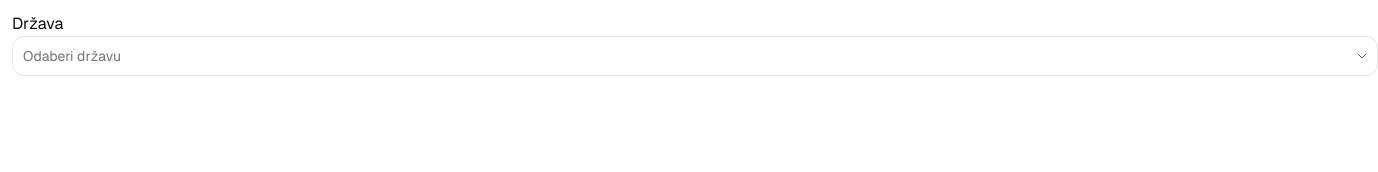
CountryCombobox › Enter picks the first match (autoHighlight)
Later steps or results of the test are not shown.
Type "sloven" into the dropdown labelled "Država".
click(681, 56); type("sloven")  # box [13, 36, 1350, 76]
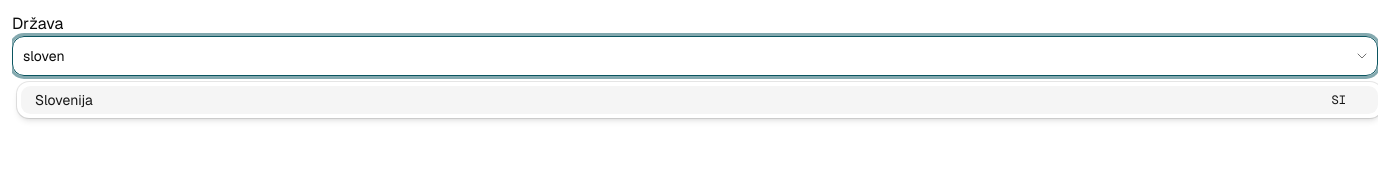
Expected: the option "Slovenija SI" is shown, [21, 86, 1377, 114]
